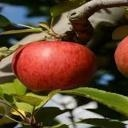apple: (8, 40, 99, 93)
